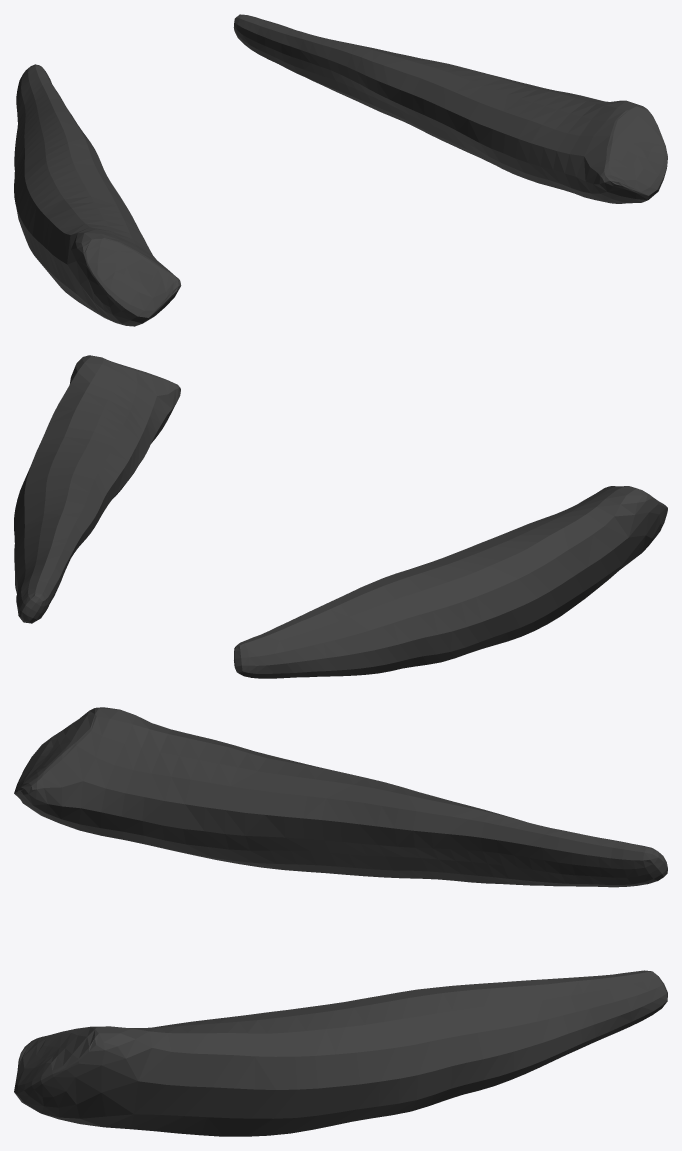
Rendered from L_mand_I3_LO.glb.
3 views of the same model, one above another, from view 1: azimuth 30°, elevation 25°; view 2: azimuth 150°, elevation 25°; view 3: azimuth 270°, elevation 25° (orthographic). The views are drawn at different scales.
Visible parts, largest first — view 1: L_mand_I3_LO; view 2: L_mand_I3_LO; view 3: L_mand_I3_LO.
Boxes of the visible parts, x1,y1,x2,y2 form: L_mand_I3_LO: (14,14,667,326); L_mand_I3_LO: (14,355,667,678); L_mand_I3_LO: (14,707,667,1136).
Size of the model in its own units: 0.000691 by 0.000121 by 0.000559.
1 material, 1 textured.
